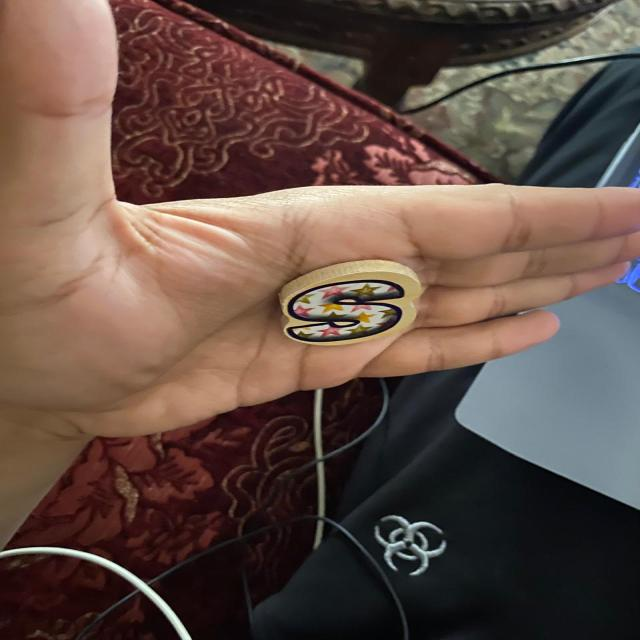S: (280, 260, 420, 346)
